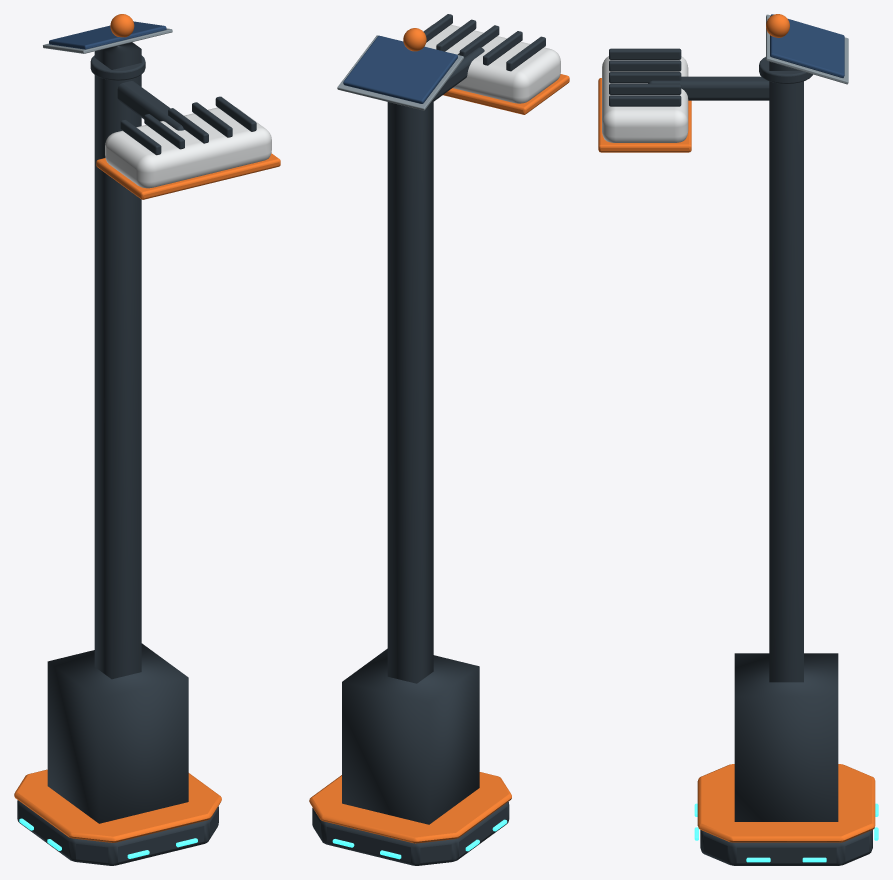
The model's file is lightpole.glb.
3 renders of one model, left to right at view 1: azimuth 30°, elevation 25°; view 2: azimuth 150°, elevation 25°; view 3: azimuth 270°, elevation 25°, orthographic. The views are drawn at different scales.
Visible parts, largest first — view 1: COL_mast, COL_base, head, plinth lip, plinth, head trim, solar, arm, cap, solar frame, fin 0, fin 4 (+2 smaller); view 2: COL_mast, COL_base, plinth lip, solar, head, plinth, head trim, solar frame, arm, fin 1, fin 0; view 3: COL_mast, COL_base, plinth lip, head, plinth, solar, arm, head trim, fin 0, fin 3, fin 1, fin 4 (+3 smaller).
Boxes of the visible parts, left/top/right/bottom form: COL_mast: left=94, top=42, right=141, bottom=679; COL_base: left=47, top=643, right=188, bottom=823; head: left=105, top=107, right=271, bottom=188; plinth lip: left=14, top=769, right=221, bottom=842; plinth: left=17, top=800, right=218, bottom=865; head trim: left=96, top=153, right=280, bottom=199; solar: left=49, top=21, right=166, bottom=49; arm: left=117, top=81, right=184, bottom=130; cap: left=90, top=55, right=145, bottom=80; solar frame: left=43, top=28, right=172, bottom=53; fin 0: left=120, top=119, right=161, bottom=155; fin 4: left=215, top=96, right=256, bottom=131; COL_mast: left=387, top=99, right=433, bottom=683; COL_base: left=342, top=648, right=479, bottom=824; plinth lip: left=309, top=772, right=511, bottom=843; solar: left=343, top=35, right=457, bottom=103; head: left=423, top=24, right=560, bottom=103; plinth: left=312, top=802, right=509, bottom=865; head trim: left=443, top=74, right=569, bottom=114; solar frame: left=337, top=35, right=463, bottom=110; arm: left=433, top=47, right=484, bottom=101; fin 1: left=483, top=31, right=522, bottom=65; fin 0: left=506, top=36, right=545, bottom=71; COL_mast: left=769, top=61, right=803, bottom=682; COL_base: left=734, top=653, right=838, bottom=821; plinth lip: left=697, top=764, right=875, bottom=842; head: left=602, top=56, right=688, bottom=142; plinth: left=700, top=830, right=872, bottom=865; solar: left=770, top=14, right=844, bottom=77; arm: left=648, top=76, right=769, bottom=100; head trim: left=598, top=78, right=691, bottom=152; fin 0: left=609, top=48, right=681, bottom=59; fin 3: left=609, top=83, right=681, bottom=94; fin 1: left=609, top=60, right=681, bottom=71; fin 4: left=609, top=95, right=681, bottom=106.
Bounding box in the file's own units: 1.06 × 5.22 × 1.62.
